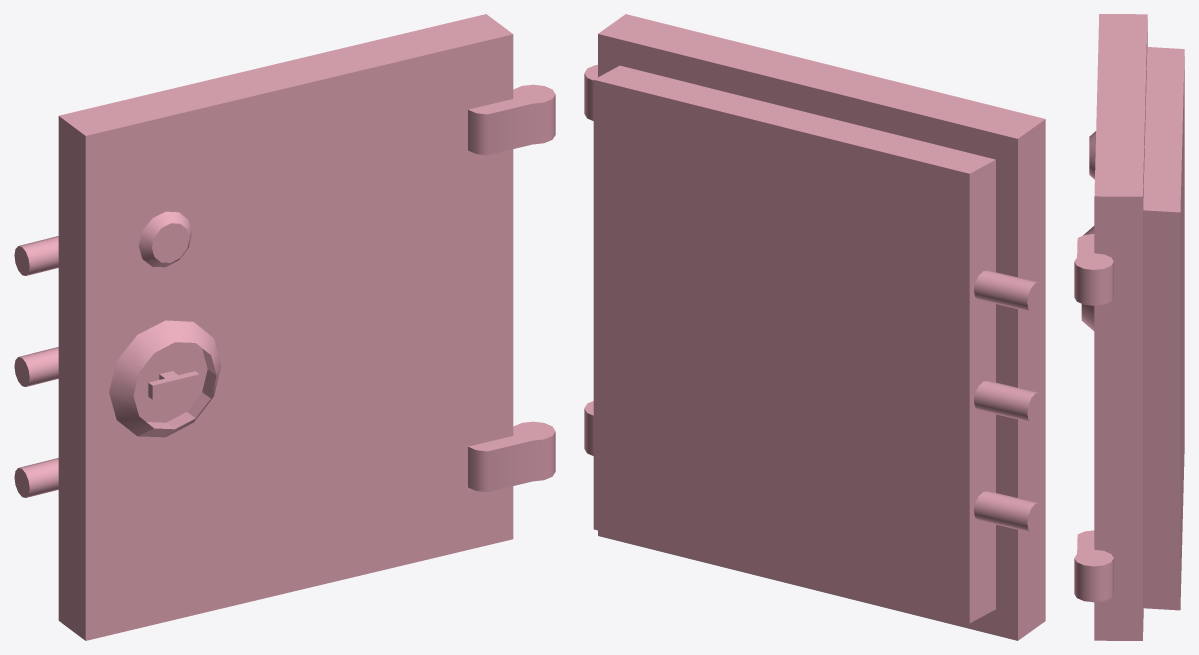
File: SafeDoor.fbx
3 views of the same model, side by side, from view 1: azimuth 30°, elevation 25°; view 2: azimuth 150°, elevation 25°; view 3: azimuth 270°, elevation 25° (orthographic). The views are drawn at different scales.
Visible parts, largest first — view 1: SafeDoor; view 2: SafeDoor; view 3: SafeDoor.
Part boxes in pixels (x1,y1,x2,y2): SafeDoor: (14,14,555,640); SafeDoor: (584,14,1045,640); SafeDoor: (1074,14,1184,640).
Size of the model in its own units: 59.17 by 58.19 by 13.1.
